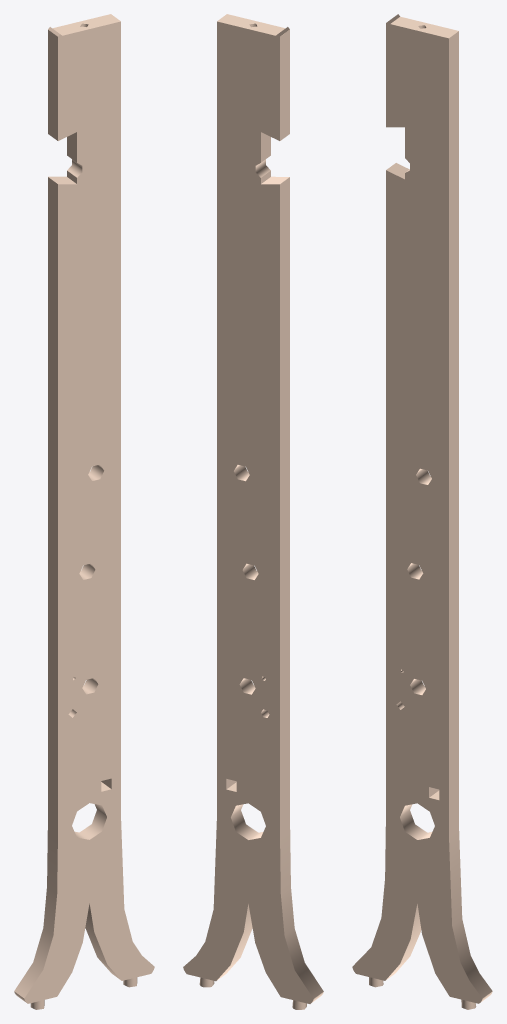
File: Pilier Quarts_arriere.obj
3 renders of one model, left to right at view 1: azimuth 30°, elevation 25°; view 2: azimuth 150°, elevation 25°; view 3: azimuth 330°, elevation 25°, orthographic.
Visible parts, largest first — view 1: Face_15, Face_12, Face_11, Face_1, Face_2, Face_28, Face_8; view 2: Face_14, Face_12, Face_11, Face_1, Face_2, Face_28, Face_8; view 3: Face_15, Face_5, Face_6, Face_2, Face_28, Face_9.
Boxes of the visible parts, x1,y1,x2,y2 form: Face_15: [24, 21, 154, 1003]; Face_12: [48, 177, 57, 834]; Face_11: [14, 828, 57, 998]; Face_1: [48, 30, 57, 140]; Face_2: [53, 14, 120, 35]; Face_28: [75, 804, 106, 839]; Face_8: [85, 903, 120, 979]; Face_14: [183, 21, 313, 1003]; Face_12: [280, 177, 289, 835]; Face_11: [280, 828, 323, 998]; Face_1: [280, 30, 289, 140]; Face_2: [217, 14, 285, 35]; Face_28: [231, 804, 263, 839]; Face_8: [217, 904, 252, 980]; Face_15: [352, 21, 482, 1003]; Face_5: [449, 31, 458, 835]; Face_6: [449, 828, 492, 998]; Face_2: [391, 16, 458, 38]; Face_28: [400, 804, 432, 839]; Face_9: [386, 904, 421, 979].
Size of the model in its own units: 0.0445 by 0.3166 by 0.006.
